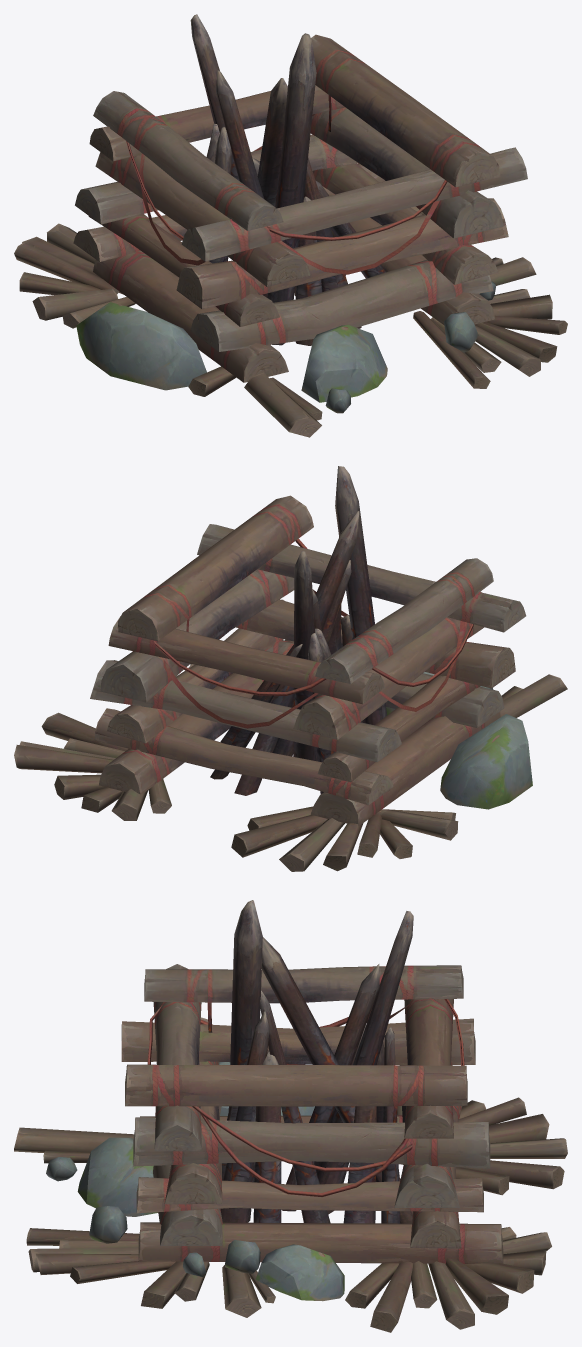
File: Homeworld_Exterior_Common_Thing_Prop_Bonfire_01_Lod0.fbx
The picture shows the model from 3 angles, top to bottom: view 1: azimuth 30°, elevation 25°; view 2: azimuth 150°, elevation 25°; view 3: azimuth 270°, elevation 25°; orthographic projection. The views are drawn at different scales.
Parts seen in each view (by area): view 1: Homeworld_Exterior_Common_Thing_Prop_Bonfire_01_Lod0; view 2: Homeworld_Exterior_Common_Thing_Prop_Bonfire_01_Lod0; view 3: Homeworld_Exterior_Common_Thing_Prop_Bonfire_01_Lod0.
Boxes of the visible parts, x1,y1,x2,y2 form: Homeworld_Exterior_Common_Thing_Prop_Bonfire_01_Lod0: [14, 14, 567, 437]; Homeworld_Exterior_Common_Thing_Prop_Bonfire_01_Lod0: [14, 466, 567, 871]; Homeworld_Exterior_Common_Thing_Prop_Bonfire_01_Lod0: [14, 900, 567, 1332].
Size of the model in its own units: 2.77 by 1.76 by 2.86.
Materials: 1 (1 with a texture image).
